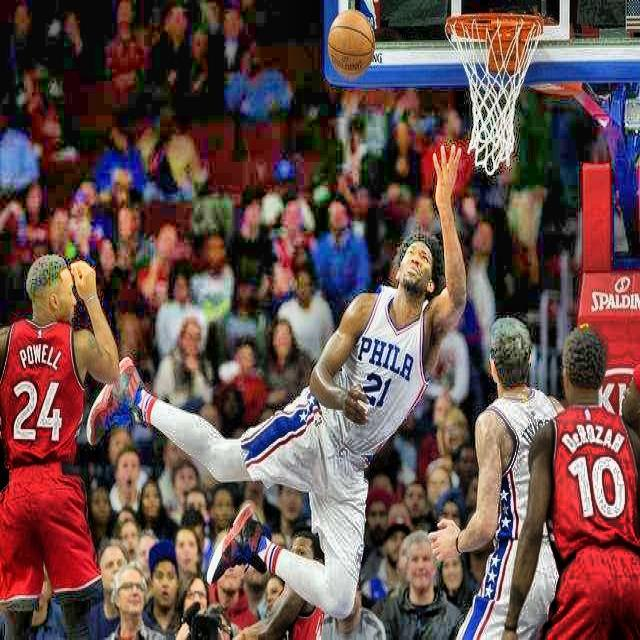board: (328, 8, 376, 76)
rim: (445, 12, 546, 171)
